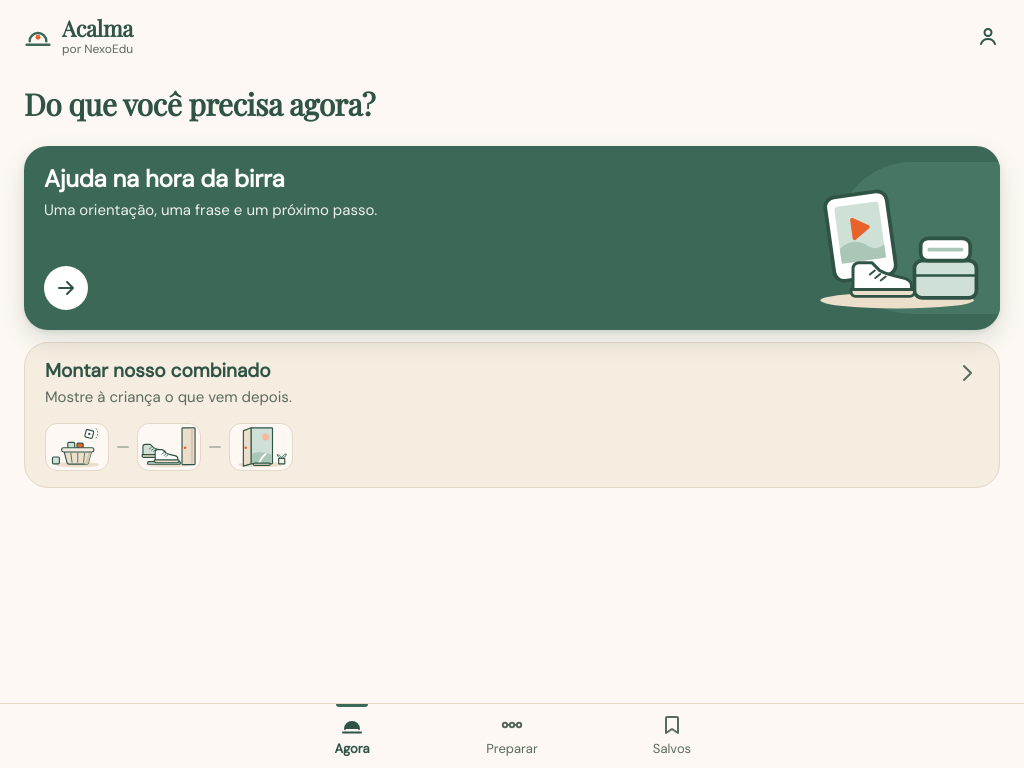
Test: ajuda na hora da birra › chega à primeira orientação em dois toques, sem perguntas antes
Click the link "Ajuda na hora da birra".
click(512, 238)  # box [24,146,1000,330]
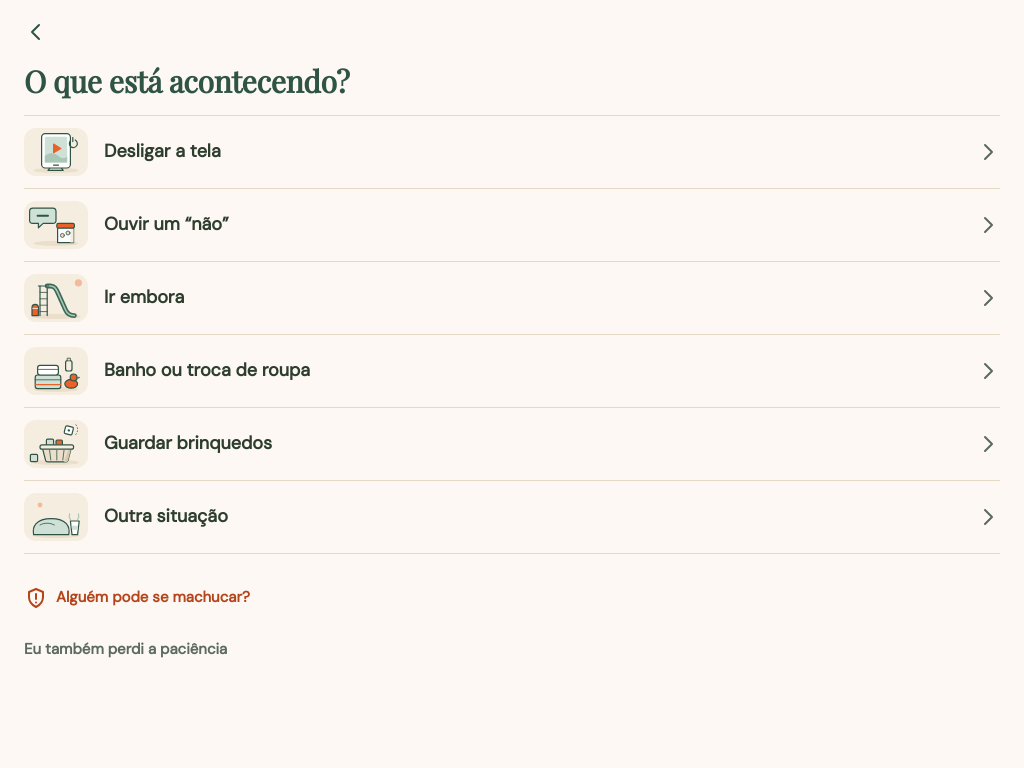
Click the link "Desligar a tela".
click(56, 152)  # box [16,116,1008,188]
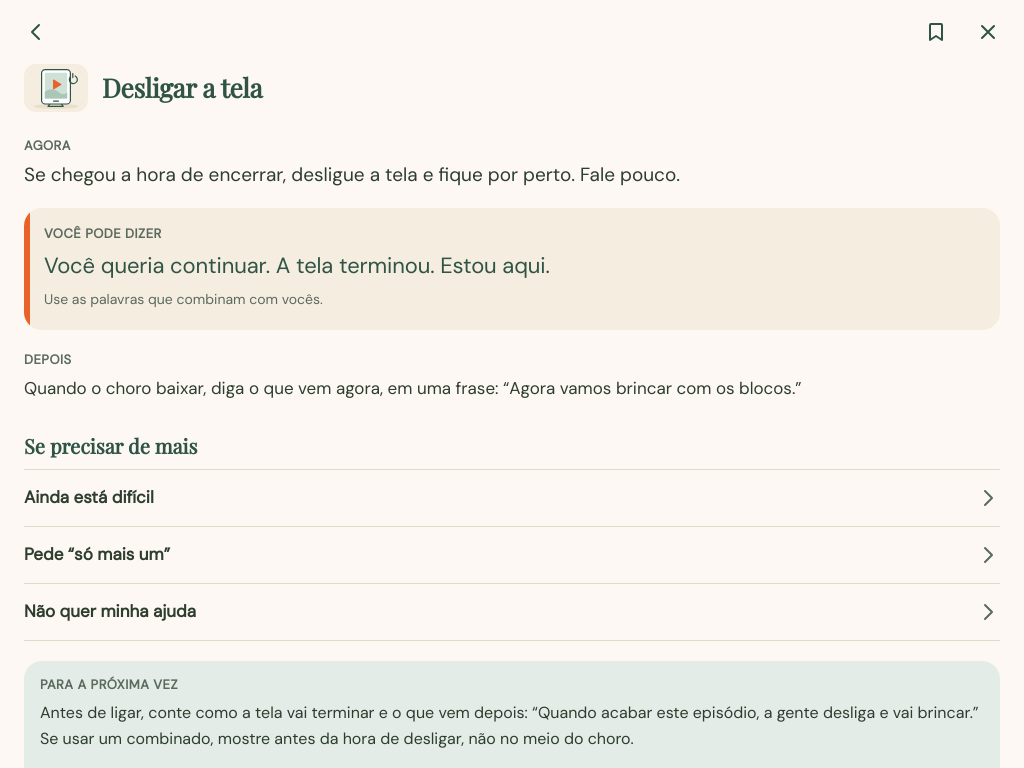
Expected: the heading "Desligar a tela" is shown, [102,73,262,103]
Expected: the heading "Agora" is shown, [24,137,71,154]
Expected: the heading "Você pode dizer" is shown, [44,225,162,242]
